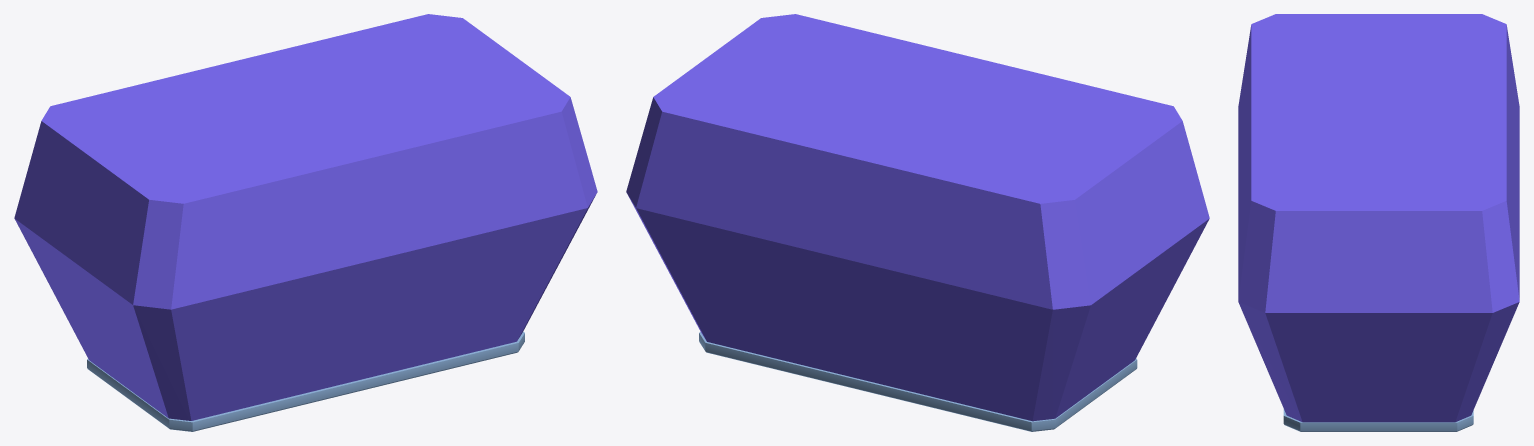
The model's file is tabletop.FBX.
3 views of the same model, side by side, from view 1: azimuth 30°, elevation 25°; view 2: azimuth 150°, elevation 25°; view 3: azimuth 270°, elevation 25° (orthographic). The views are drawn at different scales.
Visible parts, largest first — view 1: Box025, Box028; view 2: Box025, Box028; view 3: Box025, Box028.
Part boxes in pixels (x1,y1,x2,y2): Box025: (14, 14, 597, 420); Box028: (87, 331, 524, 431); Box025: (626, 14, 1209, 421); Box028: (699, 332, 1137, 431); Box025: (1238, 14, 1519, 422); Box028: (1283, 409, 1473, 431).
Bounding box in the file's own units: 189 × 104 × 97.97.
